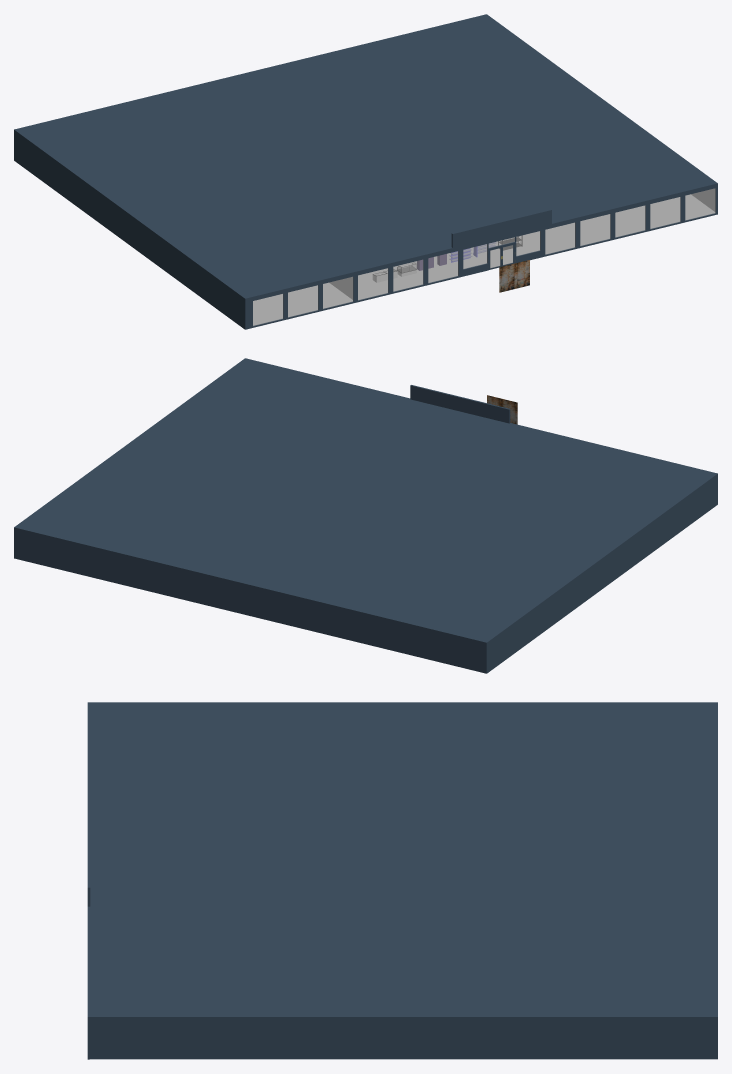
Rendered from Store.fbx.
3 renders of one model, top to bottom at view 1: azimuth 30°, elevation 25°; view 2: azimuth 150°, elevation 25°; view 3: azimuth 270°, elevation 25°, orthographic. The views are drawn at different scales.
Visible parts, largest first — view 1: Plane.020, Windows, Plane.006, Newspaper; view 2: Plane.020; view 3: Plane.020.
Part boxes in pixels (x1=…): Plane.020: x1=14, y1=14, x2=717, y2=329; Windows: x1=253, y1=188, x2=715, y2=325; Plane.006: x1=253, y1=194, x2=715, y2=325; Newspaper: x1=499, y1=260, x2=529, y2=292; Plane.020: x1=14, y1=358, x2=717, y2=673; Plane.020: x1=87, y1=702, x2=717, y2=1059.
Size of the model in its own units: 66.53 by 6.05 by 62.92.
